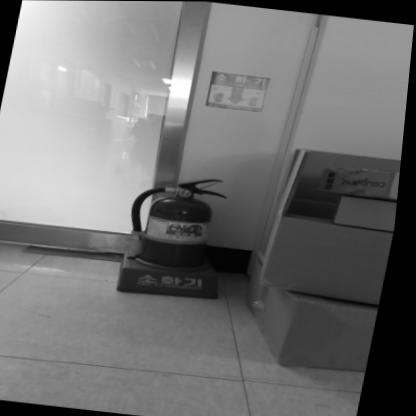FE: (119, 168, 245, 300)
